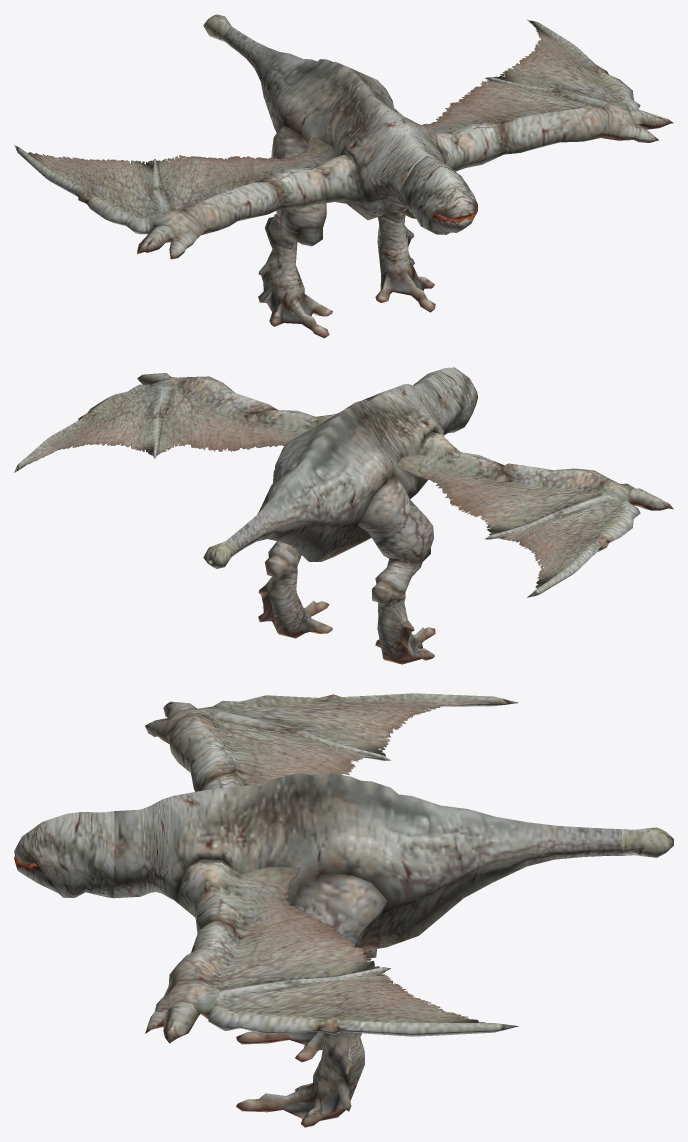
Rendered from khezu.glb.
The picture shows the model from 3 angles, top to bottom: view 1: azimuth 30°, elevation 25°; view 2: azimuth 150°, elevation 25°; view 3: azimuth 270°, elevation 25°; orthographic projection. The views are drawn at different scales.
Parts seen in each view (by area): view 1: em15-0001-10, em15-0001-8, em15-0001-4, em15-0001-5, em15-0001-9, em15-0001-2.001; view 2: em15-0001-10, em15-0001-8, em15-0001-4, em15-0001-5, em15-0001-9, em15-0001-2.001; view 3: em15-0001-10, em15-0001-8, em15-0001-4, em15-0001-5, em15-0001-9, em15-0001-2.001.
Boxes of the visible parts, x1=… form: em15-0001-10: x1=14, y1=19, x2=673, y2=259; em15-0001-8: x1=254, y1=47, x2=443, y2=220; em15-0001-4: x1=258, y1=108, x2=435, y2=338; em15-0001-5: x1=400, y1=155, x2=477, y2=234; em15-0001-9: x1=222, y1=26, x2=266, y2=67; em15-0001-2.001: x1=203, y1=14, x2=231, y2=45; em15-0001-10: x1=14, y1=373, x2=673, y2=597; em15-0001-8: x1=257, y1=379, x2=453, y2=561; em15-0001-4: x1=258, y1=470, x2=435, y2=664; em15-0001-5: x1=416, y1=367, x2=477, y2=435; em15-0001-9: x1=231, y1=505, x2=279, y2=556; em15-0001-2.001: x1=203, y1=537, x2=238, y2=568; em15-0001-10: x1=145, y1=693, x2=518, y2=1043; em15-0001-8: x1=113, y1=772, x2=526, y2=951; em15-0001-4: x1=236, y1=874, x2=387, y2=1127; em15-0001-5: x1=14, y1=811, x2=114, y2=897; em15-0001-9: x1=527, y1=822, x2=622, y2=866; em15-0001-2.001: x1=621, y1=827, x2=673, y2=857.
Bounding box in the file's own units: 1050 × 444 × 865.
3 materials, 3 textured.
